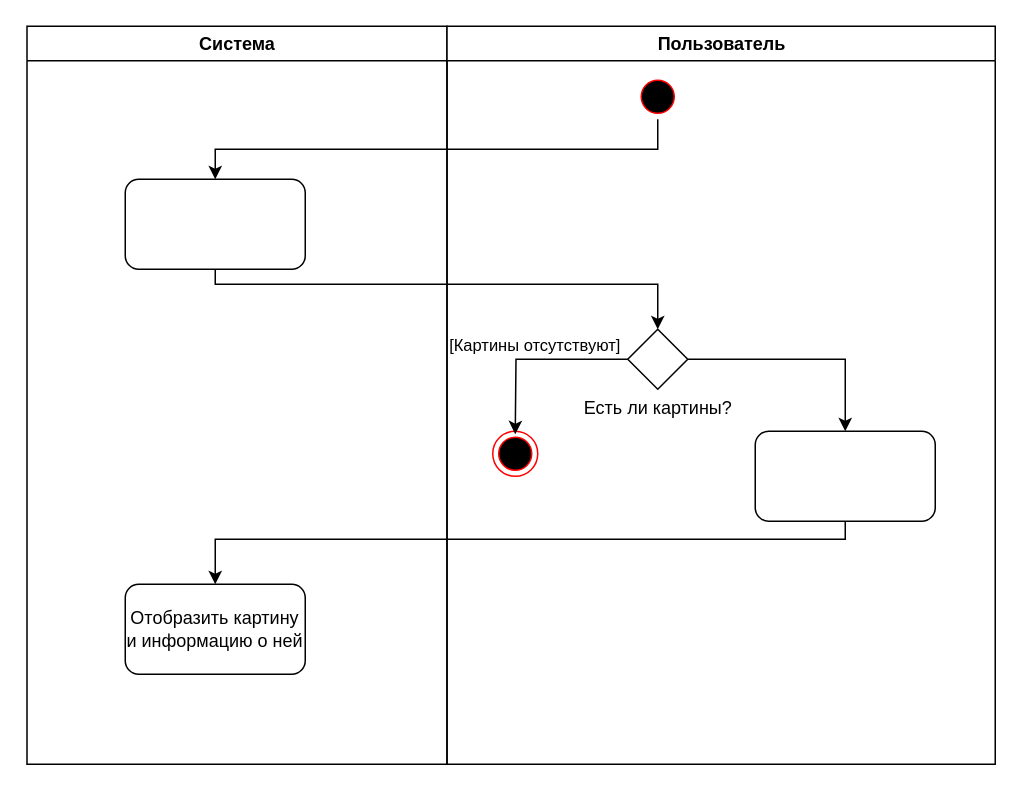
The diagram is 1022 pixels wide and 791 high, and some of its shapes have lost their labels. The shapes that lost their labels are listed below. From the top down, each one's centre as x and y in pixels, then its label:
At point (214, 223): "Вывести список всех картин".
At point (844, 475): "Выбрать картину".
